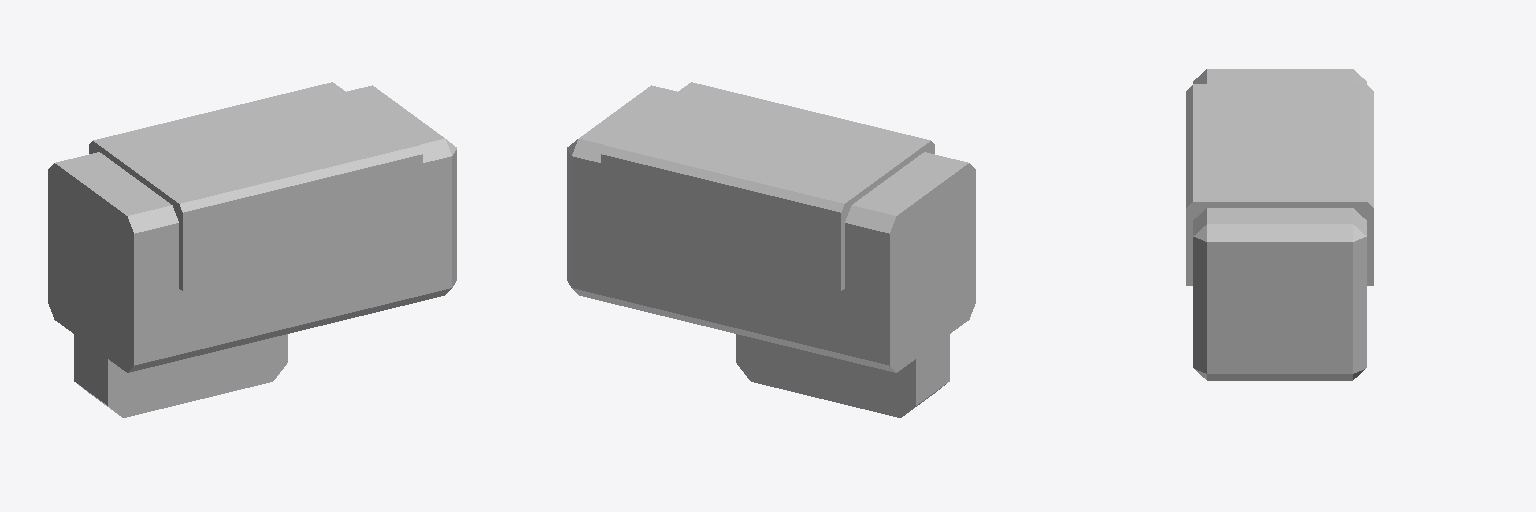
File: sensorlight.obj
3 views of the same model, side by side, from view 1: azimuth 30°, elevation 25°; view 2: azimuth 150°, elevation 25°; view 3: azimuth 270°, elevation 25° (orthographic).
Parts seen in each view (by area): view 1: cube4; view 2: cube4; view 3: cube4.
Boxes of the visible parts, x1,y1,x2,y2 form: cube4: [48, 82, 456, 417]; cube4: [567, 82, 975, 417]; cube4: [1186, 69, 1373, 380].
Size of the model in its own units: 0.55 by 0.36 by 0.27.